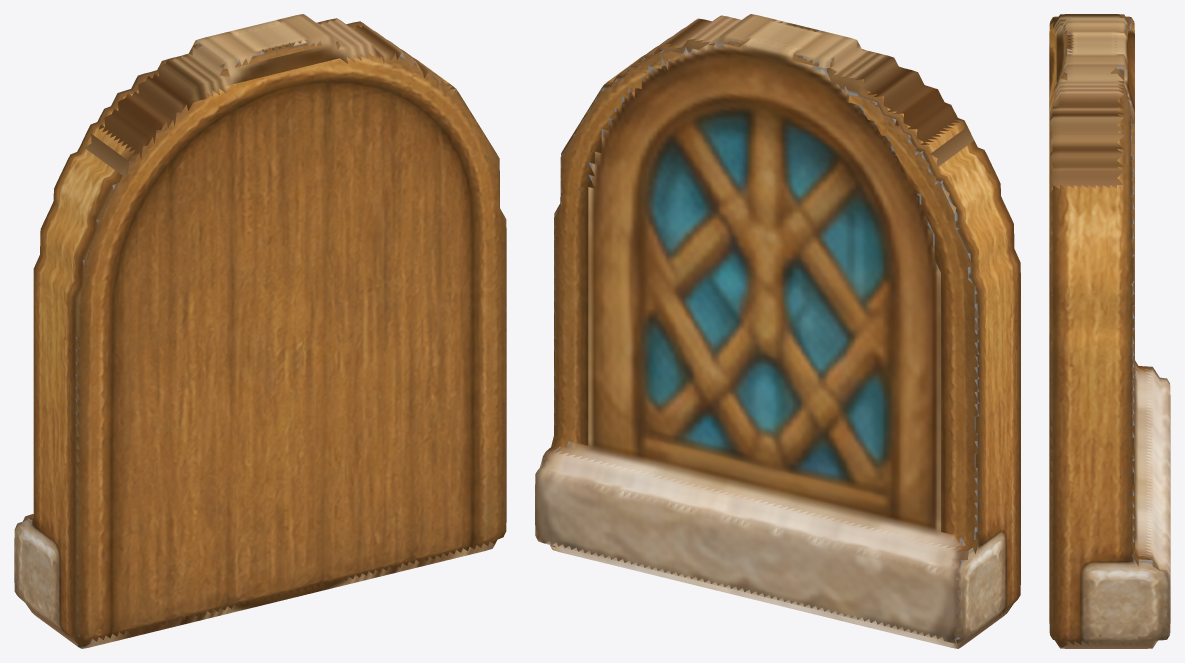
The model's file is potion-window.glb.
3 renders of one model, left to right at view 1: azimuth 30°, elevation 25°; view 2: azimuth 150°, elevation 25°; view 3: azimuth 270°, elevation 25°, orthographic. The views are drawn at different scales.
Size of the model in its own units: 0.8222 by 1 by 0.2143.
Materials: 1 (1 with a texture image).
